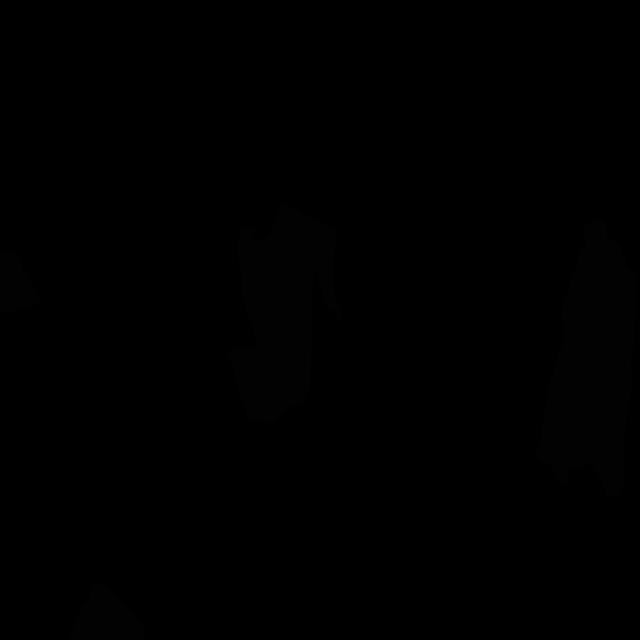cardboard: (535, 217, 637, 497), (237, 204, 342, 342), (227, 279, 312, 423), (68, 582, 146, 640), (0, 250, 42, 313)
